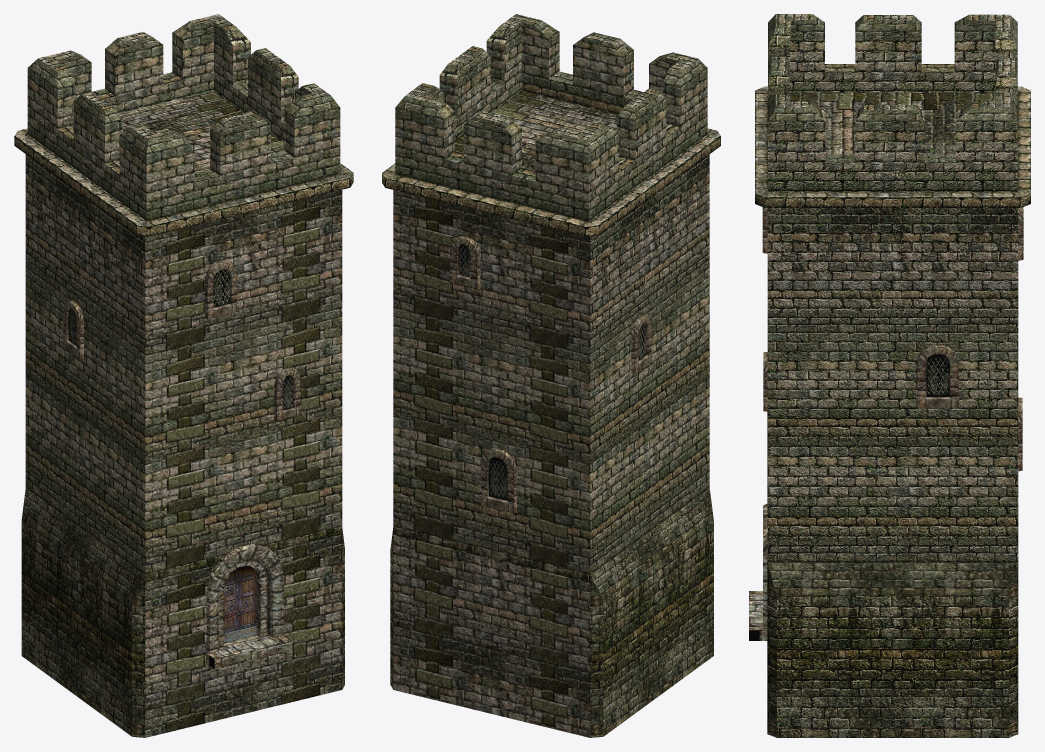
File: t_house7.glb
3 views of the same model, side by side, from view 1: azimuth 30°, elevation 25°; view 2: azimuth 150°, elevation 25°; view 3: azimuth 270°, elevation 25° (orthographic). The views are drawn at different scales.
Visible parts, largest first — view 1: t_house7-col; view 2: t_house7-col; view 3: t_house7-col.
Boxes of the visible parts, x1,y1,x2,y2 form: t_house7-col: [14, 14, 353, 737]; t_house7-col: [382, 14, 720, 737]; t_house7-col: [749, 14, 1030, 737].
Size of the model in its own units: 8.88 by 23.25 by 9.53.
Materials: 9 (9 with a texture image).
